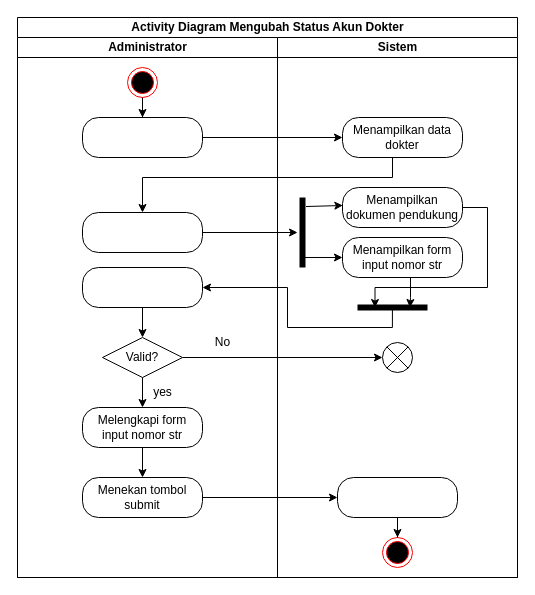
The diagram is 535 pixels wide and 595 high, and some of its shapes have lost their labels. Here are the shapes that lost their labels. From the top down, the box of each, then its label:
(82, 116, 202, 158): Memilih menu dokter
(82, 212, 202, 252): Menekan tombol aktifkan akun
(82, 266, 202, 308): Melakukan validasi data
(336, 476, 458, 518): Menyimpan data dokter
